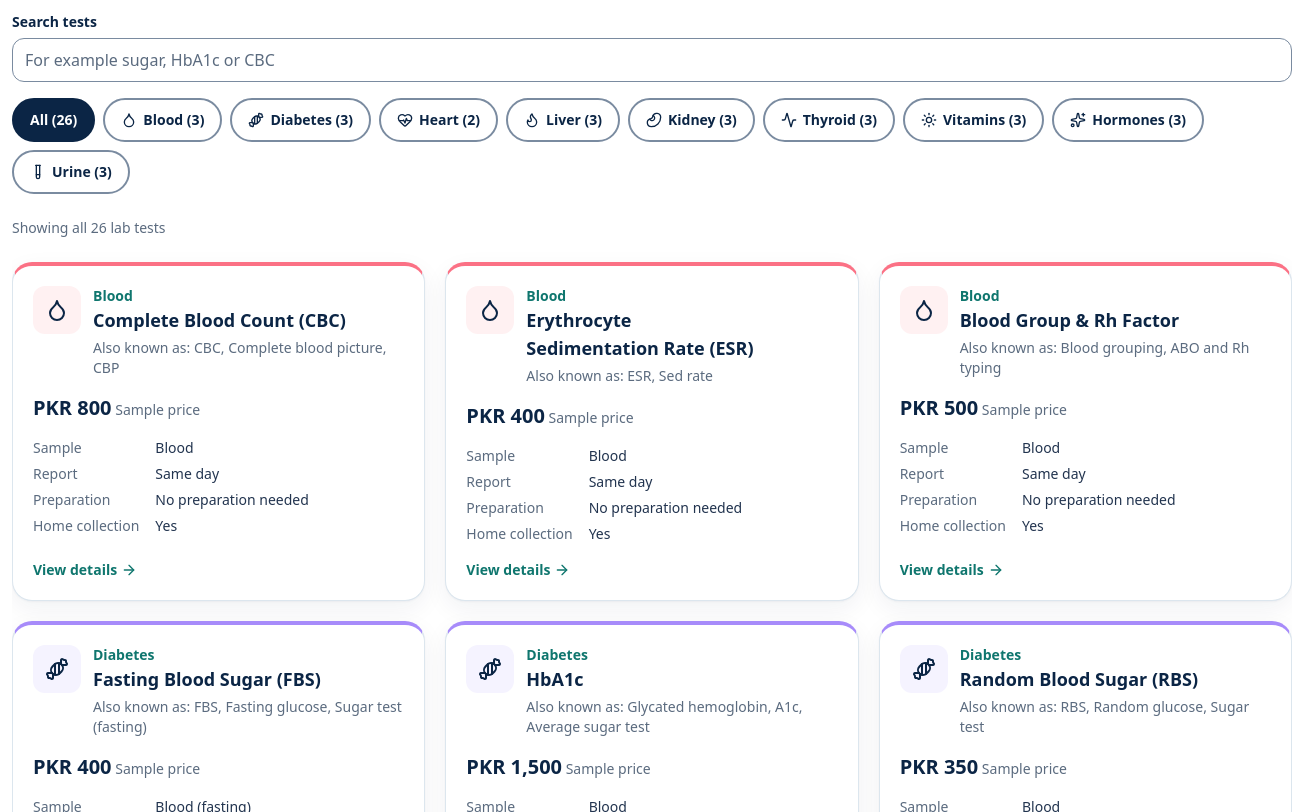
it: LabTestBrowser › has a chip per category with its count and marks the chosen one with aria-pressed
Step 1. Click the button "Heart (2)" → (438, 120), box 379,98 -> 498,142
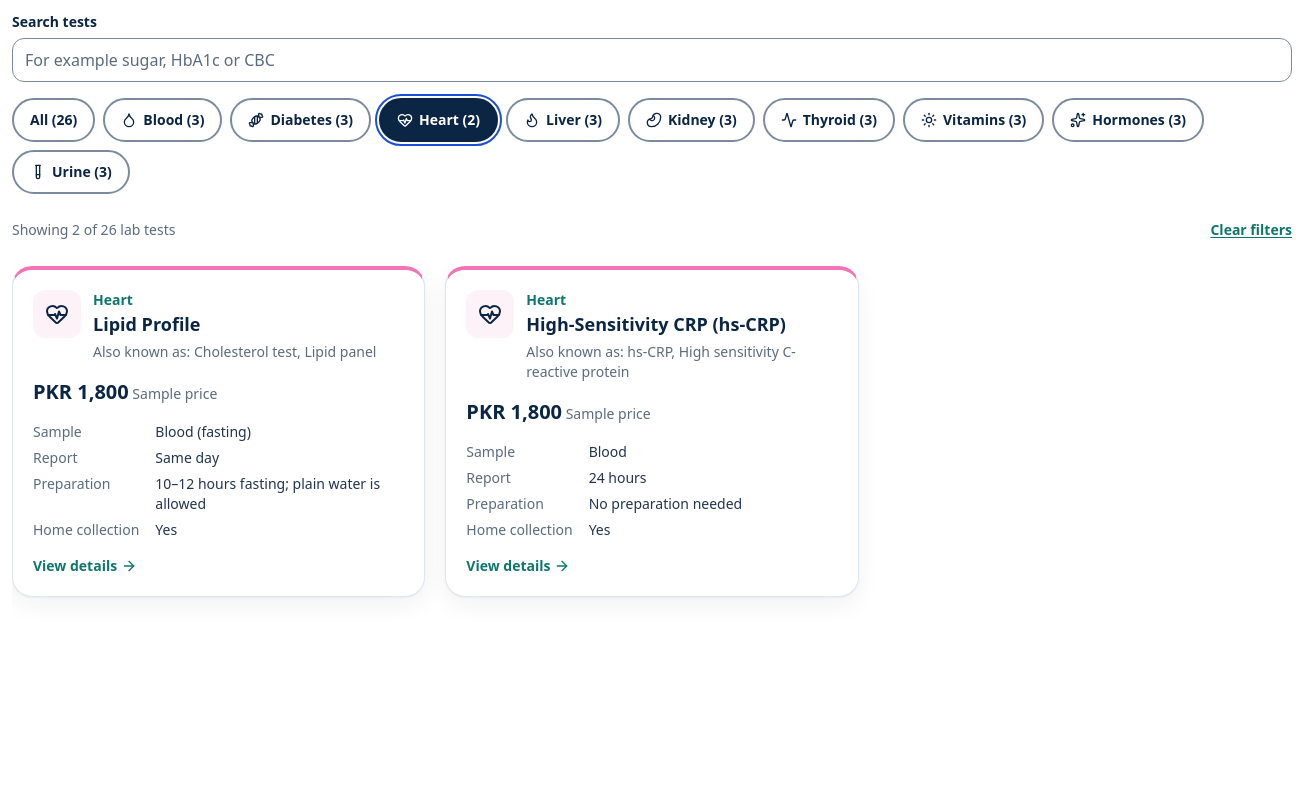
expect the message reads "Showing 2 of 26 lab tests": met, box 12,220 -> 175,239
